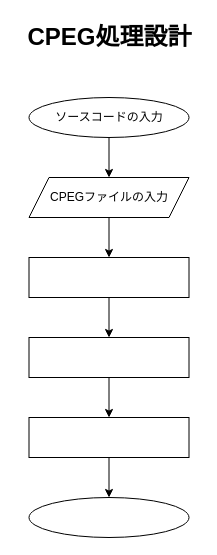
Image size: 217x555. Some labels were removed from this diagram. The centre of each missing label's shape, as x and y in pixels:
"ASTデータを出力" goes at point 108,517.
"CPEGデータを vector に変換" goes at point 108,277.
